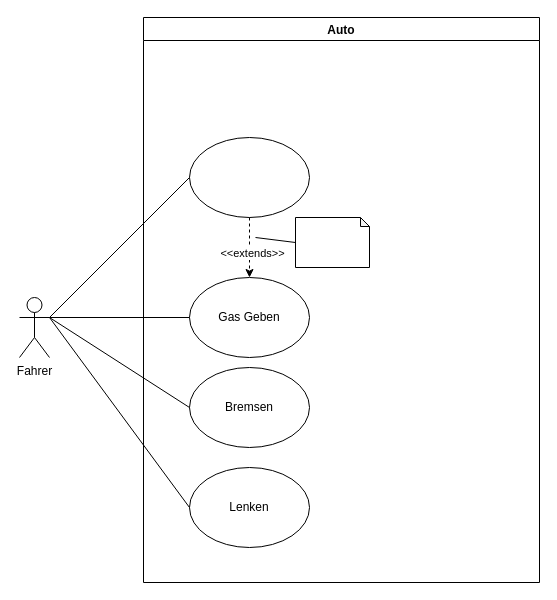
This 557x600 diagram has some shape labels left out. The centre of each missing label's shape, as x and y in pixels:
"falls Motor noch nicht gestartet ist" goes at point 332,242.
"Motor starten" goes at point 249,177.
